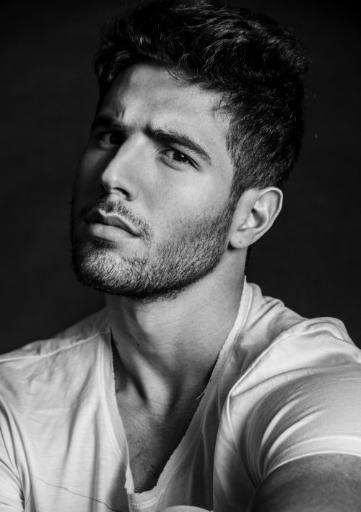left_eye: (156, 147, 201, 175)
left_lip_corner: (130, 224, 145, 246)
right_eye: (94, 129, 125, 147)
